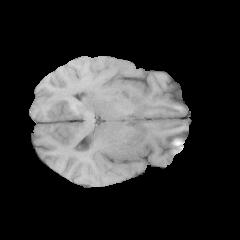glioma: (75, 79, 142, 125)
